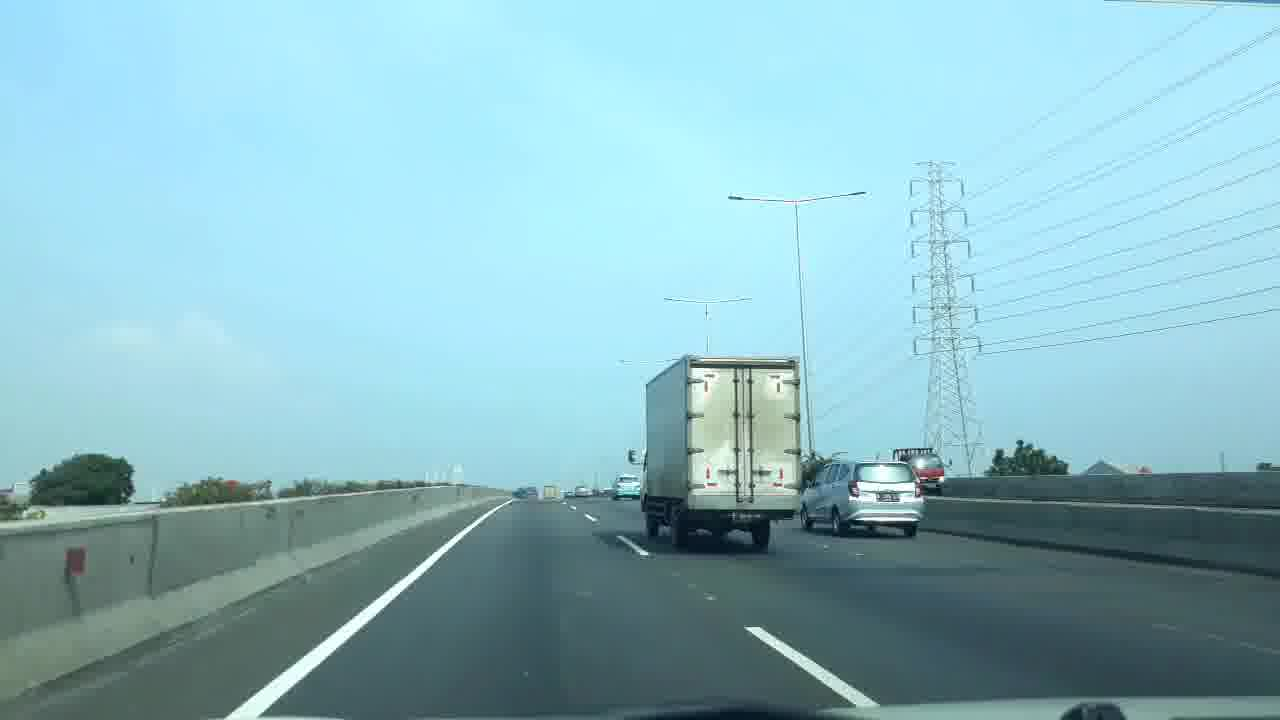plate_positive: (877, 493, 899, 502)
